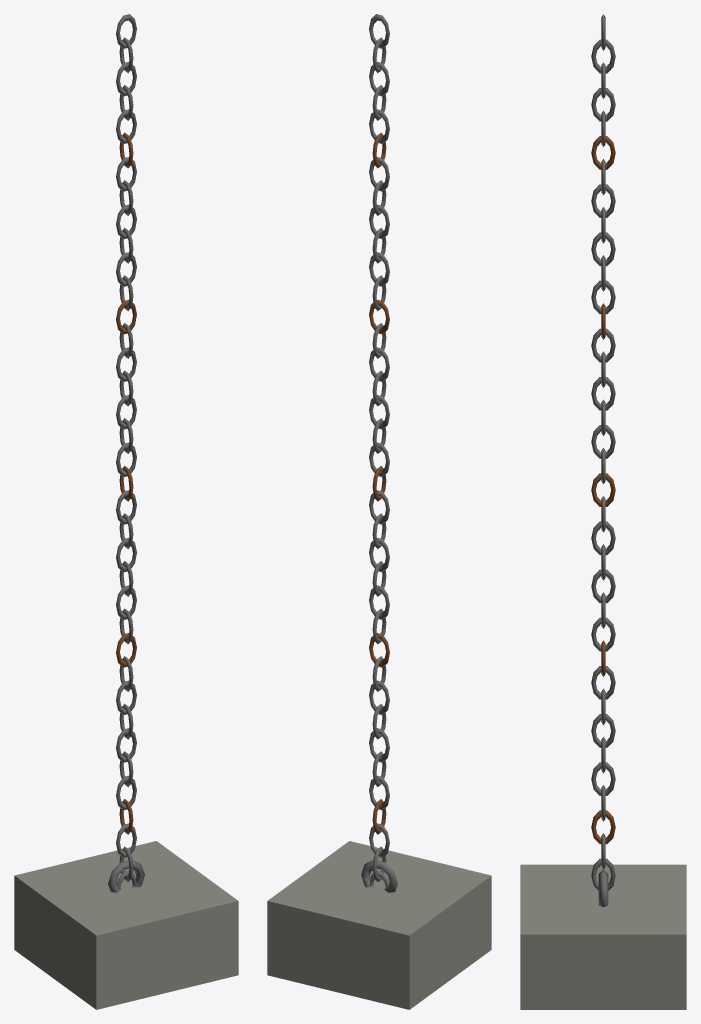
The model's file is lake-buoyline-shallows-0.glb.
3 renders of one model, left to right at view 1: azimuth 30°, elevation 25°; view 2: azimuth 150°, elevation 25°; view 3: azimuth 270°, elevation 25°, orthographic.
Visible parts, largest first — view 1: lake-buoyline-shallows-0; view 2: lake-buoyline-shallows-0; view 3: lake-buoyline-shallows-0.
Boxes of the visible parts, x1,y1,x2,y2 form: lake-buoyline-shallows-0: [14, 14, 238, 1009]; lake-buoyline-shallows-0: [267, 14, 491, 1009]; lake-buoyline-shallows-0: [520, 14, 686, 1009].
Size of the model in its own units: 0.5 by 3.19 by 0.5.
